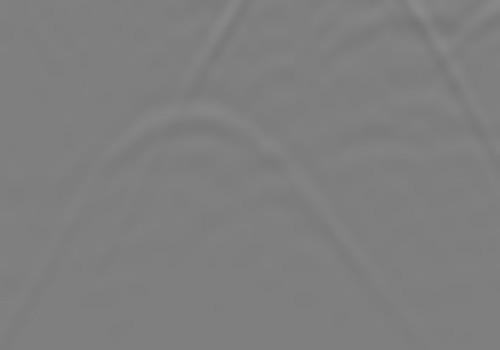Hyperbola: (17, 78, 426, 350)
